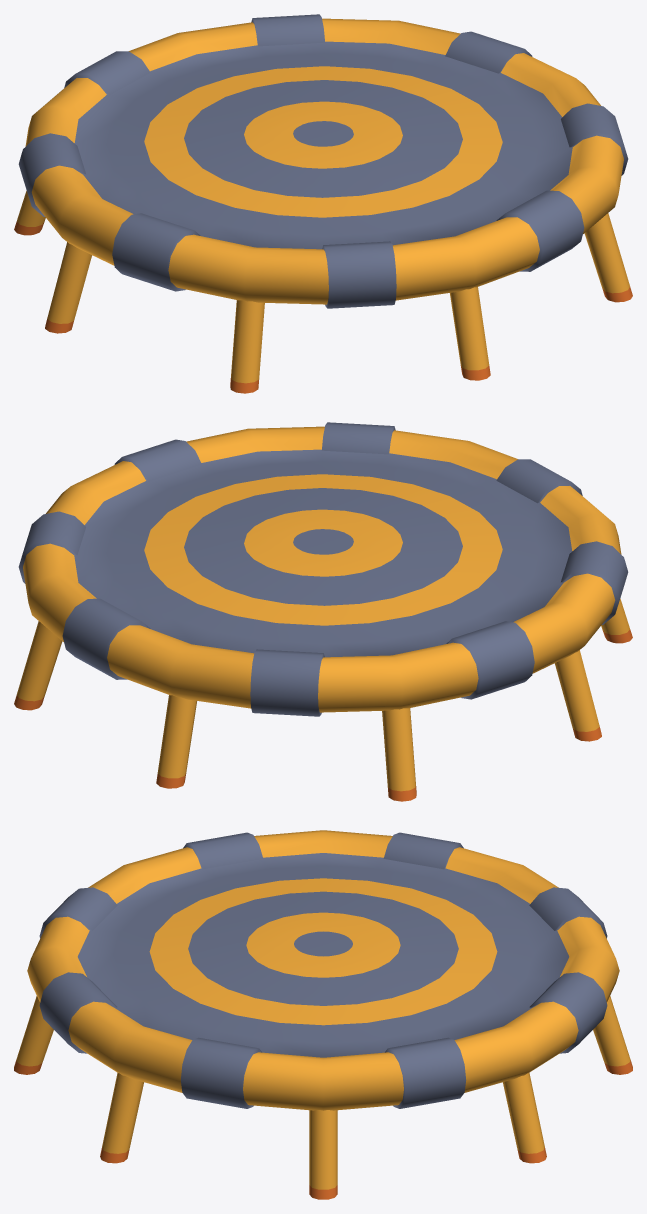
File: trampoline.fbx
The picture shows the model from 3 angles, top to bottom: view 1: azimuth 30°, elevation 25°; view 2: azimuth 150°, elevation 25°; view 3: azimuth 270°, elevation 25°; orthographic projection. The views are drawn at different scales.
Parts seen in each view (by area): view 1: trampoline1; view 2: trampoline1; view 3: trampoline1.
Part boxes in pixels (<box>): trampoline1: <box>14,14,632,393</box>; trampoline1: <box>14,422,632,801</box>; trampoline1: <box>14,830,632,1199</box>.
Size of the model in its own units: 467 by 105 by 467.
Materials: 1 (1 with a texture image).
